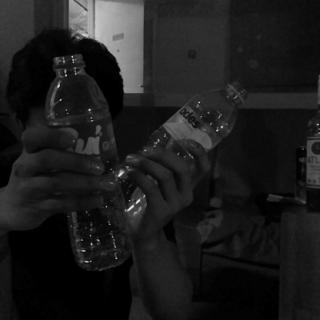plastic_bottles: (46, 50, 132, 272), (116, 80, 248, 220)
